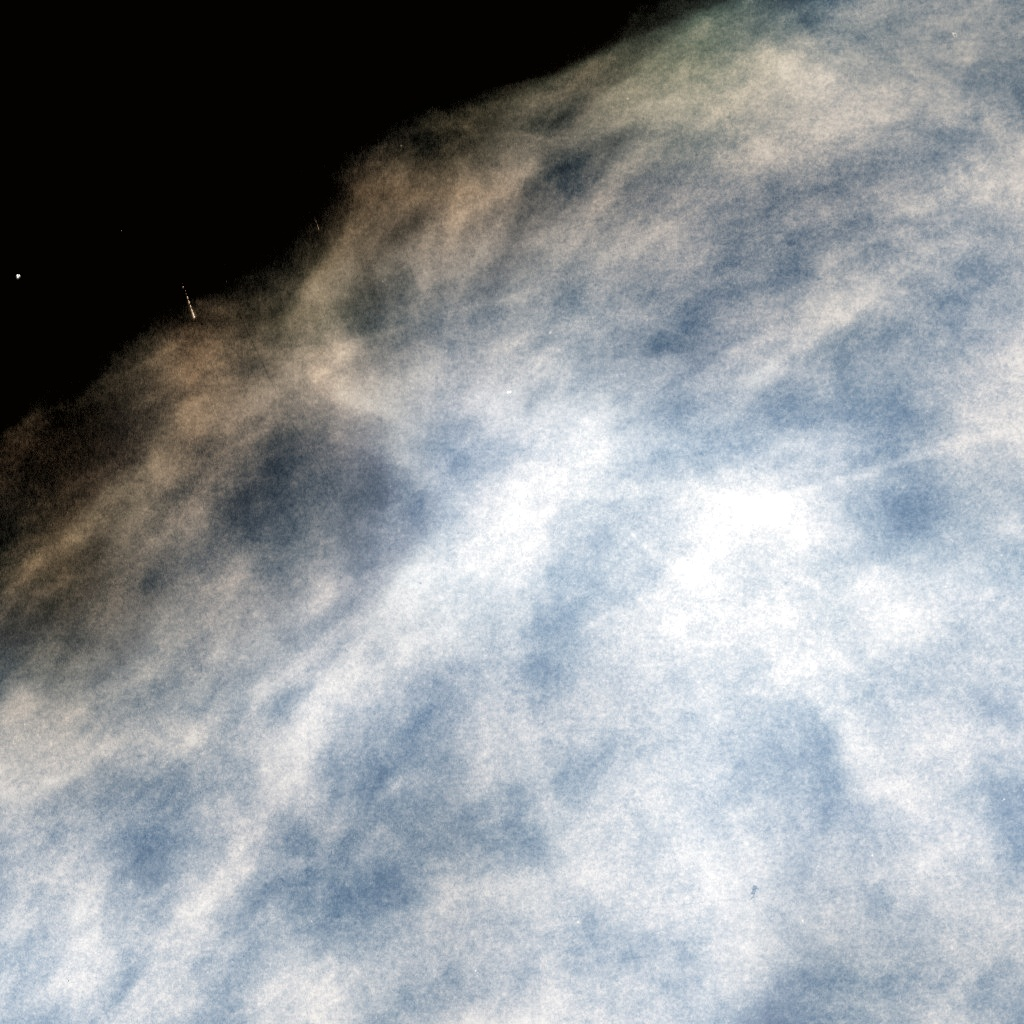tumor: (310, 316, 714, 708)
